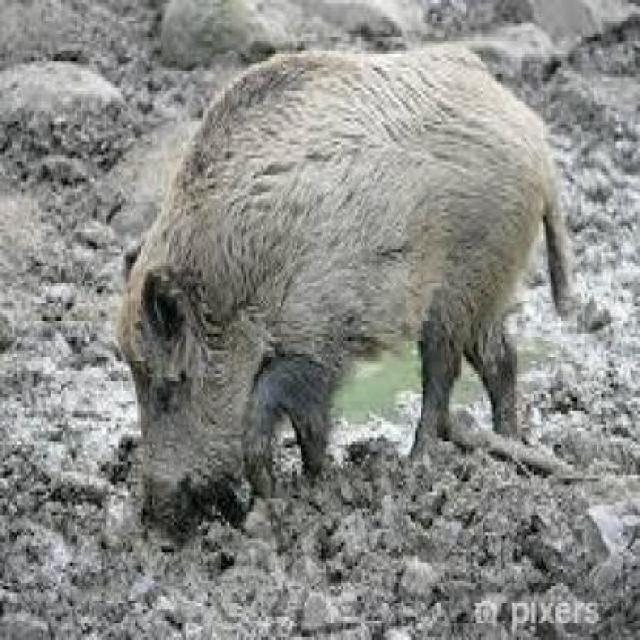wildboar: (114, 39, 586, 546)
